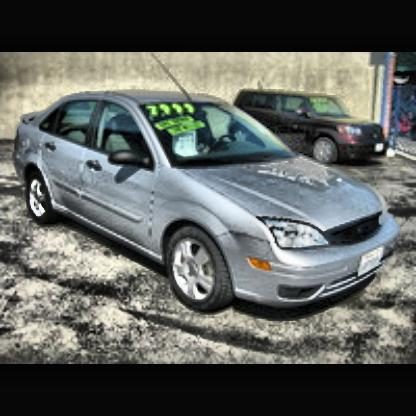Ford Focus Sedan 2007: (15, 90, 399, 316)
